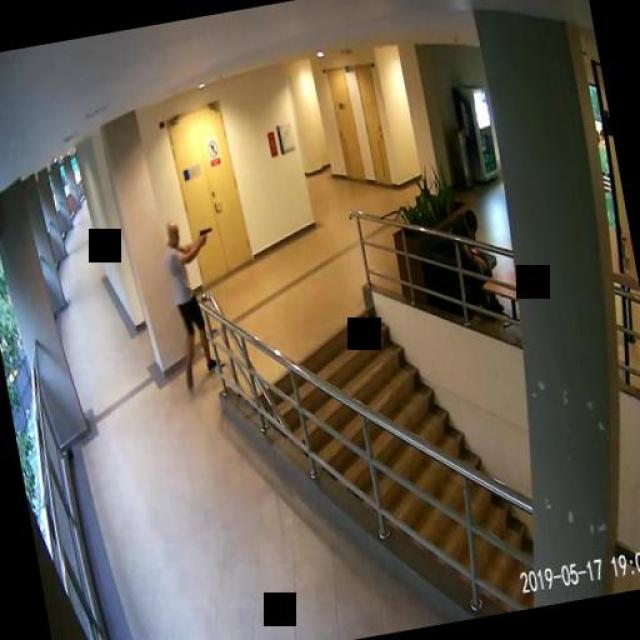gun: (196, 224, 212, 244)
